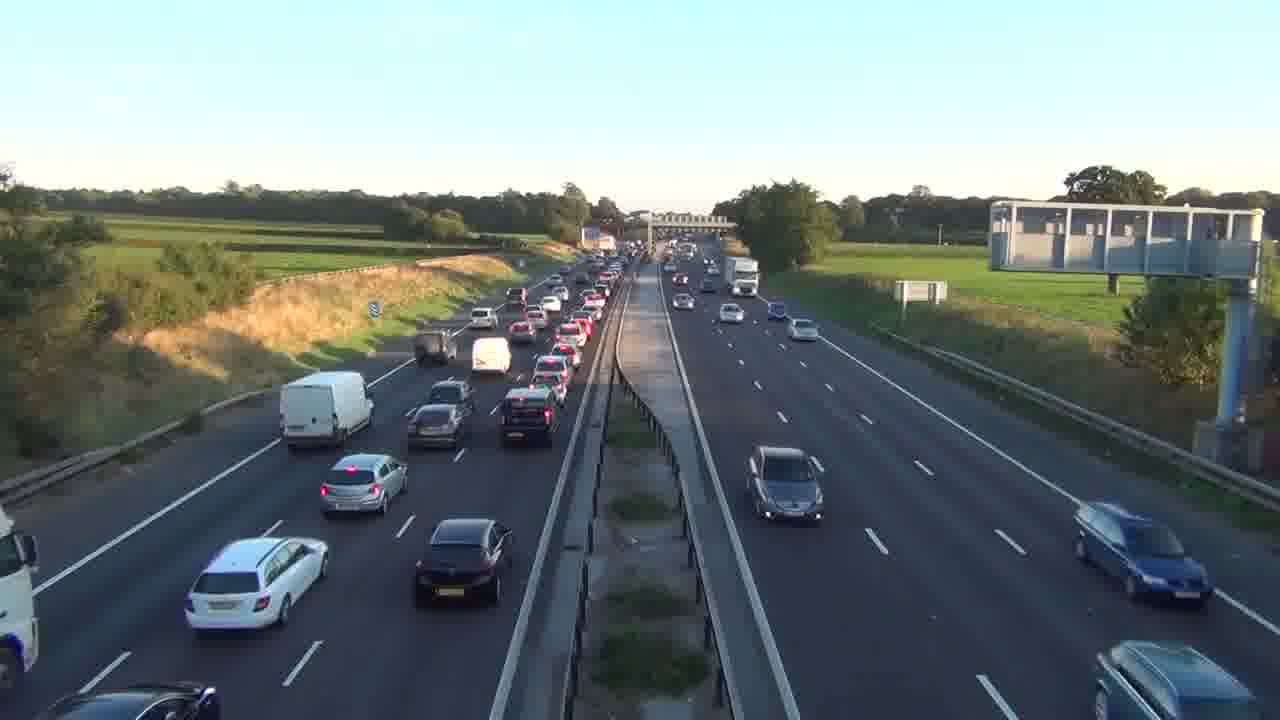car: (183, 533, 329, 633), (1092, 639, 1264, 719), (412, 515, 515, 607), (44, 681, 223, 719), (318, 452, 407, 518), (406, 401, 467, 451), (786, 316, 819, 342)
truck: (1071, 498, 1215, 611), (0, 503, 42, 690), (280, 369, 374, 450), (471, 336, 512, 375), (728, 257, 760, 297)
